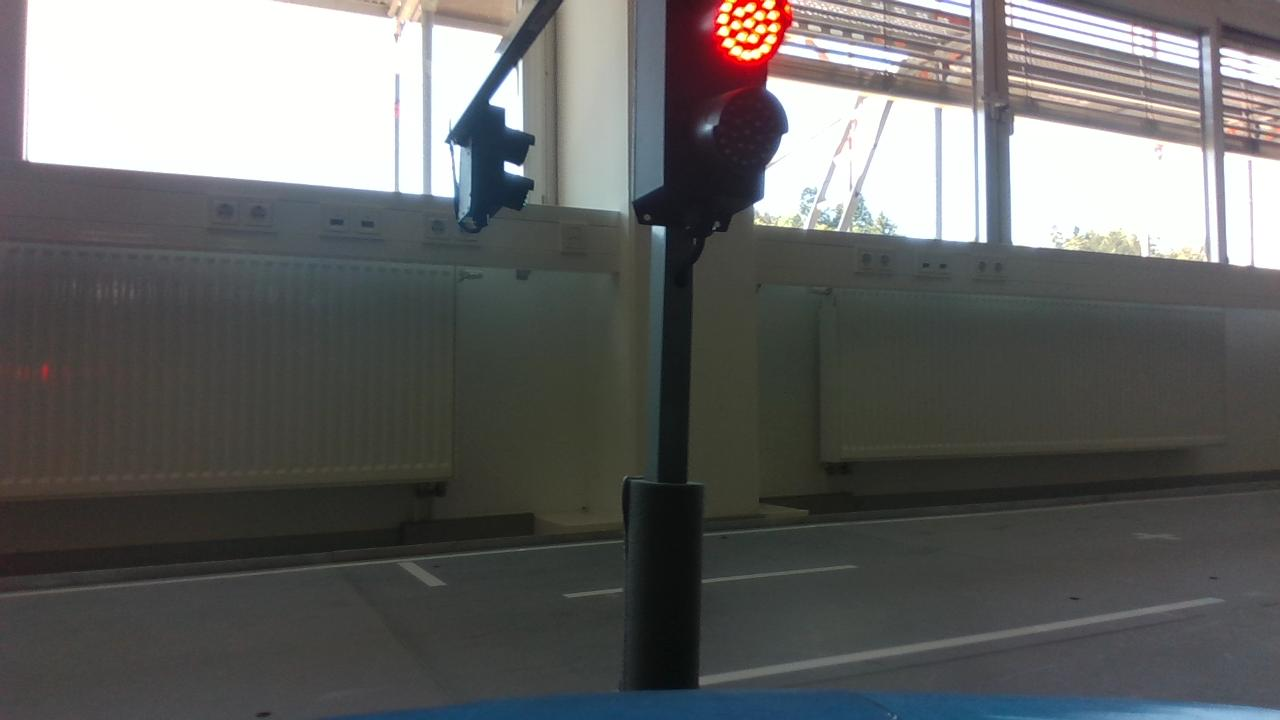traffic_light_red: (622, 1, 801, 272)
